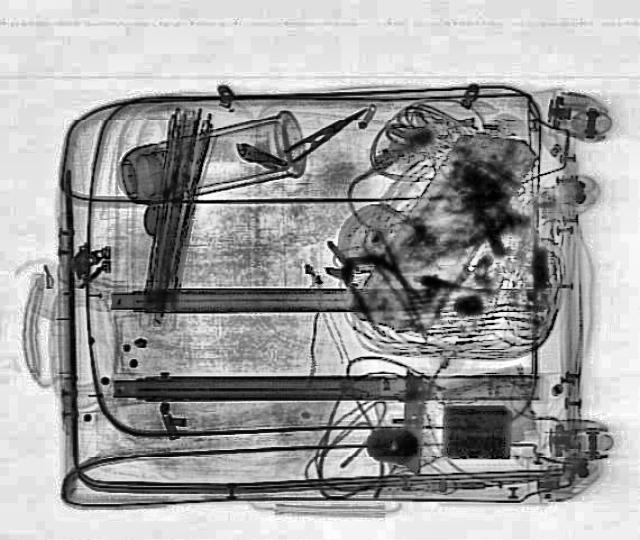Pliers: (290, 228, 434, 338), (278, 101, 372, 162)
